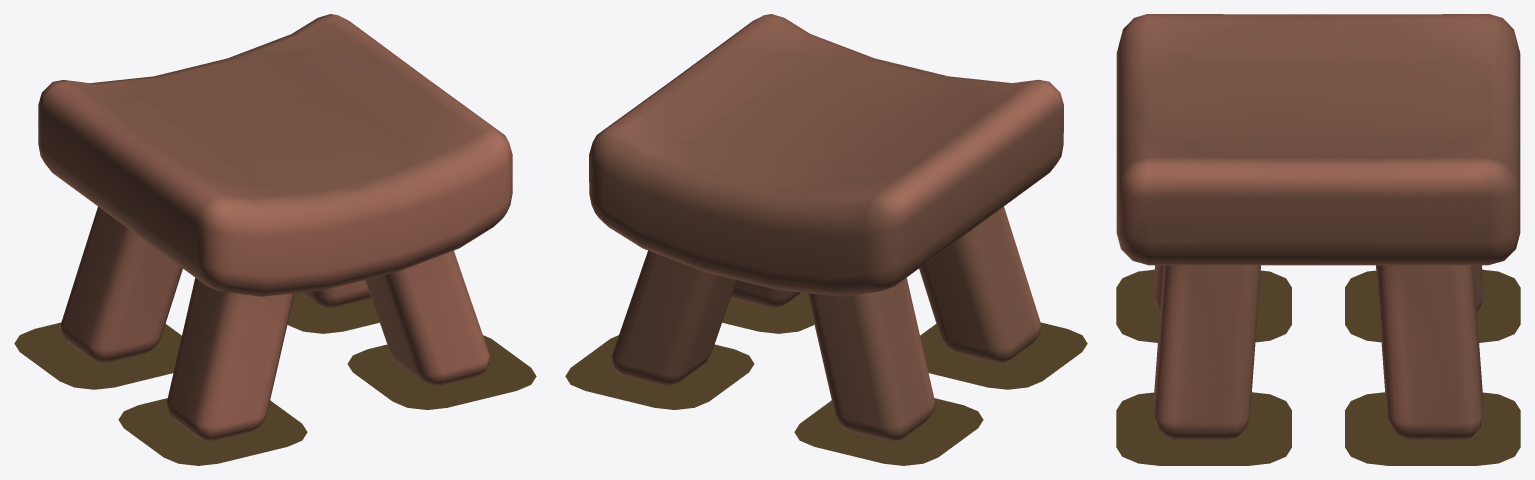
The model's file is drum_base.fbx.
The picture shows the model from 3 angles, left to right: view 1: azimuth 30°, elevation 25°; view 2: azimuth 150°, elevation 25°; view 3: azimuth 270°, elevation 25°; orthographic projection. The views are drawn at different scales.
Visible parts, largest first — view 1: JpDrum01.001; view 2: JpDrum01.001; view 3: JpDrum01.001.
Part boxes in pixels (bbox=[...]): JpDrum01.001: bbox=[14, 14, 536, 465]; JpDrum01.001: bbox=[565, 14, 1087, 465]; JpDrum01.001: bbox=[1116, 14, 1520, 465].
Size of the model in its own units: 128 by 84.37 by 111.
